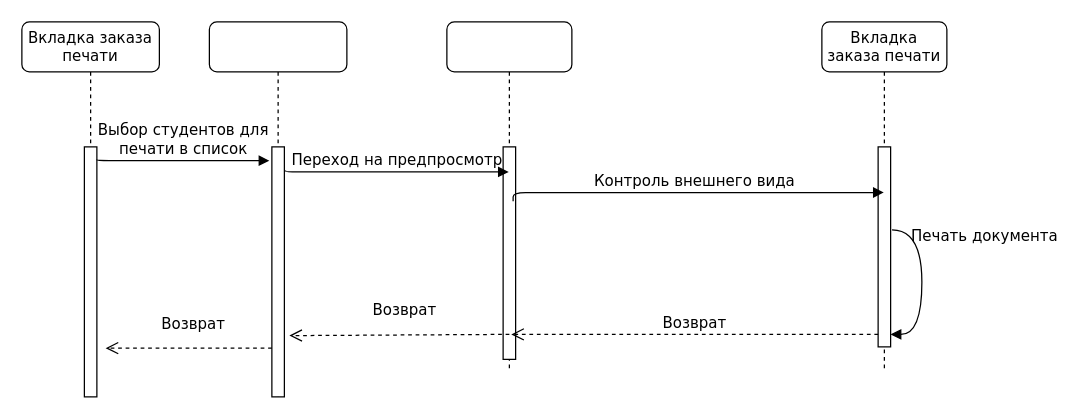
Image size: 1079x419. Some labels were removed from this diagram. The box of each missing label's shape, as (x1, y1, x2, y2) in pixels:
Вкладка печати заказа: (208, 21, 347, 397)
Вкладка Предпросмотра: (446, 21, 572, 372)
